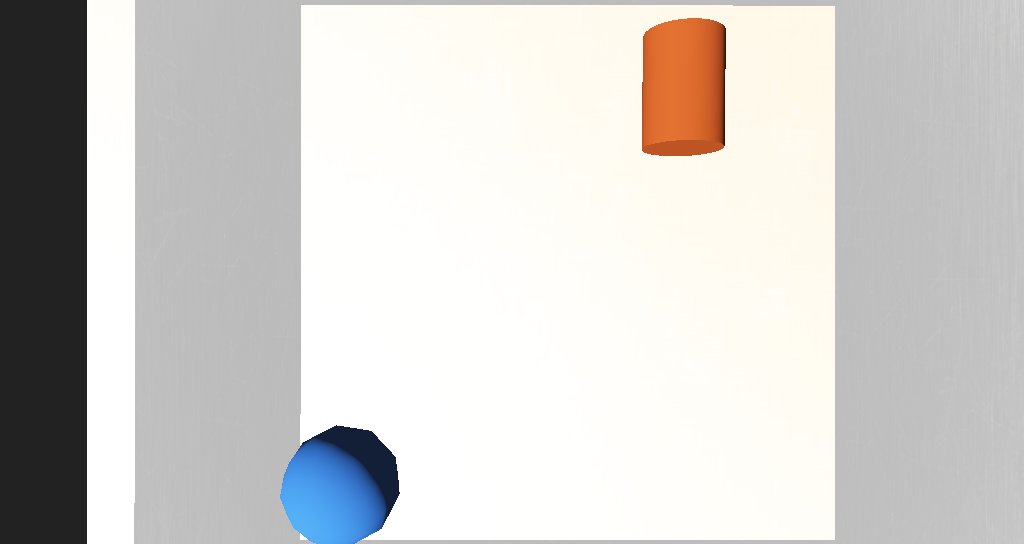cone: (549, 172, 596, 220)
cylinder: (711, 277, 825, 334)
sphere: (354, 324, 414, 372)
